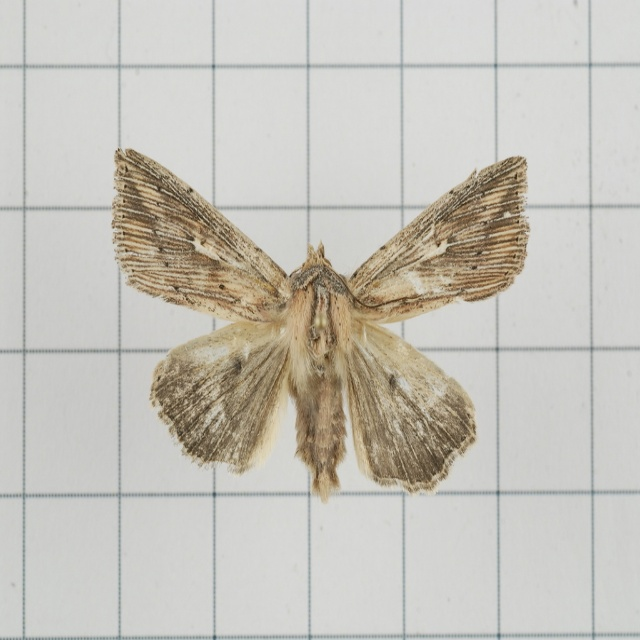Butterfly: (126, 156, 510, 523)
